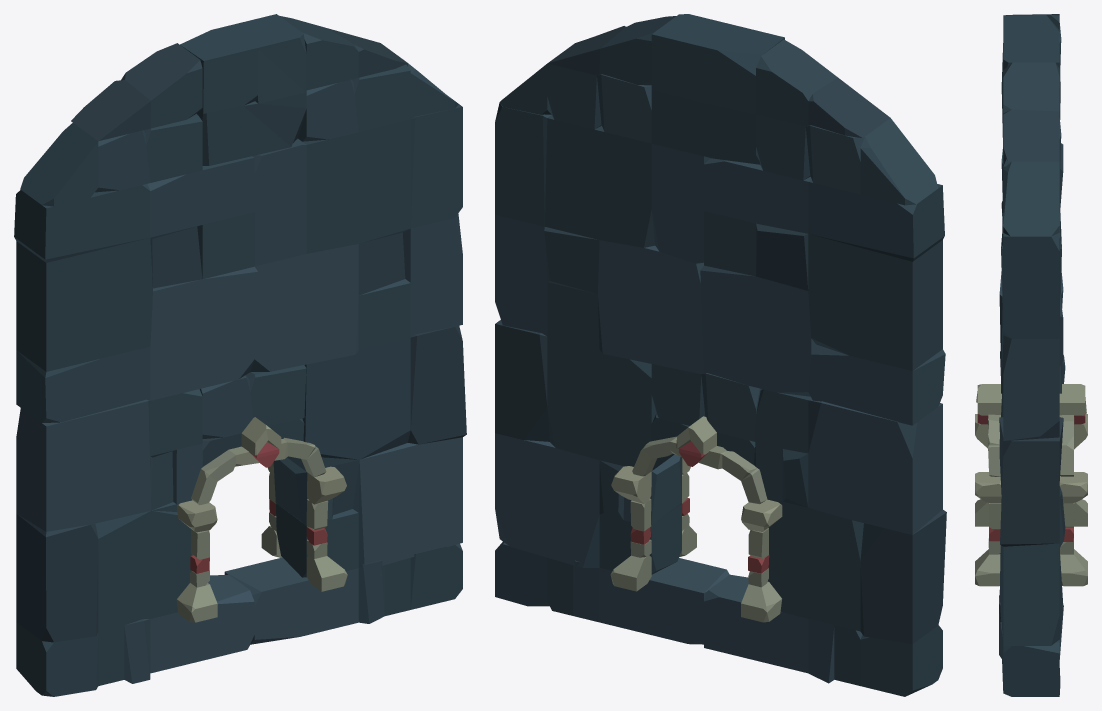
File: wall_with_door_large_wide.fbx
3 views of the same model, side by side, from view 1: azimuth 30°, elevation 25°; view 2: azimuth 150°, elevation 25°; view 3: azimuth 270°, elevation 25° (orthographic). The views are drawn at different scales.
Visible parts, largest first — view 1: wall_with_door_large_wide; view 2: wall_with_door_large_wide; view 3: wall_with_door_large_wide.
Part boxes in pixels (box(x1,y1,x2,y2)): wall_with_door_large_wide: box(14, 14, 466, 696); wall_with_door_large_wide: box(495, 14, 946, 696); wall_with_door_large_wide: box(975, 14, 1087, 696).
Bounding box in the file's own units: 809 × 1107 × 200.
